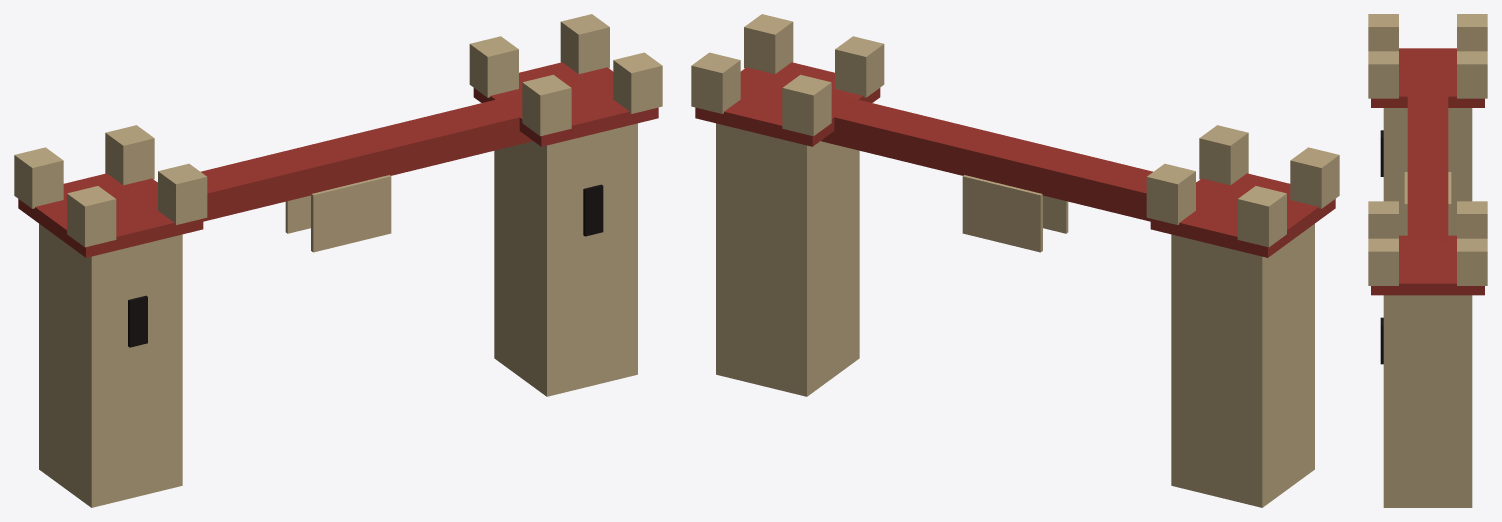
Rendered from minotaur_gate.glb.
The picture shows the model from 3 angles, left to right: view 1: azimuth 30°, elevation 25°; view 2: azimuth 150°, elevation 25°; view 3: azimuth 270°, elevation 25°; orthographic projection. The views are drawn at different scales.
Visible parts, largest first — view 1: minotaur_gate; view 2: minotaur_gate; view 3: minotaur_gate.
Boxes of the visible parts, <box> form: minotaur_gate: <box>14,14,662,507</box>; minotaur_gate: <box>691,14,1339,507</box>; minotaur_gate: <box>1368,14,1487,507</box>.
Bounding box in the file's own units: 4.44 × 2.29 × 0.94.
